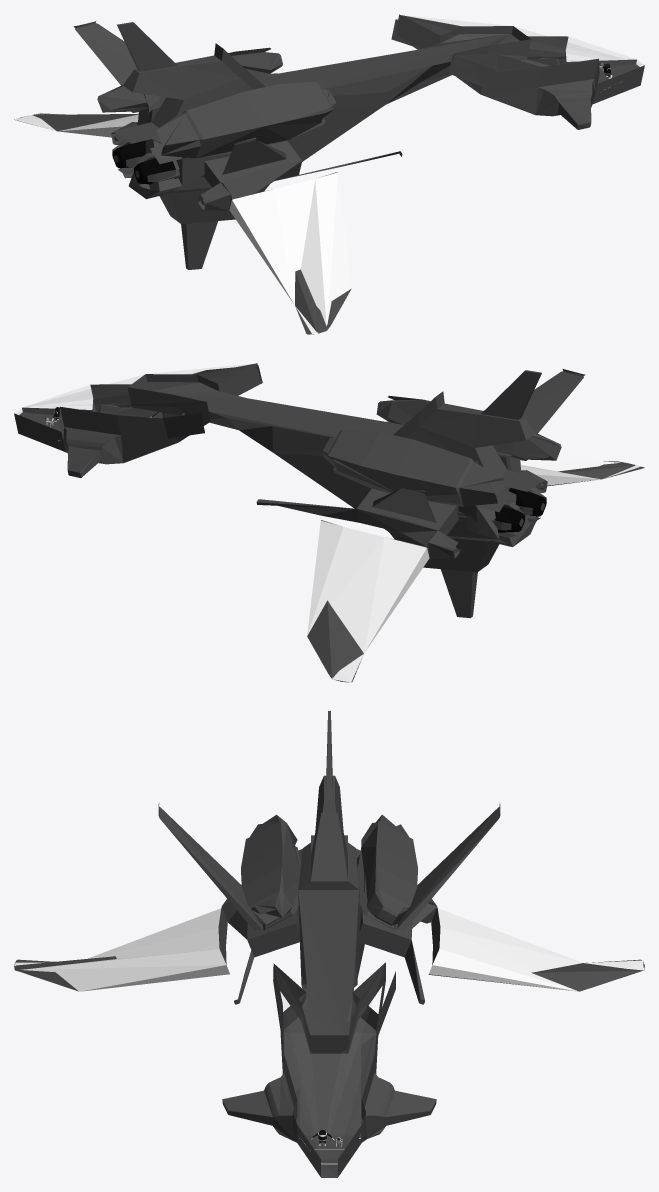
File: Nave_con2Meshes.FBX
The picture shows the model from 3 angles, top to bottom: view 1: azimuth 30°, elevation 25°; view 2: azimuth 150°, elevation 25°; view 3: azimuth 270°, elevation 25°; orthographic projection. The views are drawn at different scales.
Visible parts, largest first — view 1: Cylinder003; view 2: Cylinder003; view 3: Cylinder003.
Boxes of the visible parts, left/top/right/bottom form: Cylinder003: left=14, top=14, right=644, bottom=334; Cylinder003: left=14, top=363, right=644, bottom=682; Cylinder003: left=14, top=711, right=644, bottom=1177.
Bounding box in the file's own units: 862 × 413 × 844.
Materials: 13 (4 with a texture image).
